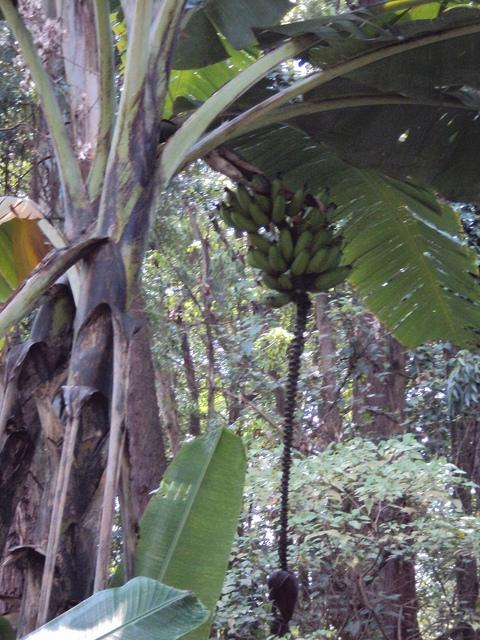banana: (306, 264, 352, 292), (239, 246, 278, 276), (224, 206, 262, 233), (315, 242, 342, 272), (305, 245, 332, 274), (224, 188, 250, 218), (308, 229, 331, 261), (268, 243, 288, 276), (290, 246, 310, 278), (279, 224, 293, 268), (248, 232, 273, 256), (248, 200, 270, 227), (285, 189, 305, 217), (276, 270, 304, 290), (260, 292, 294, 308), (237, 183, 254, 214), (294, 231, 313, 258), (322, 250, 344, 272), (272, 190, 286, 223), (302, 205, 322, 227), (259, 271, 280, 291), (220, 201, 236, 226), (271, 172, 282, 206), (252, 172, 270, 190), (326, 203, 338, 226), (312, 188, 330, 201), (338, 241, 346, 251)
